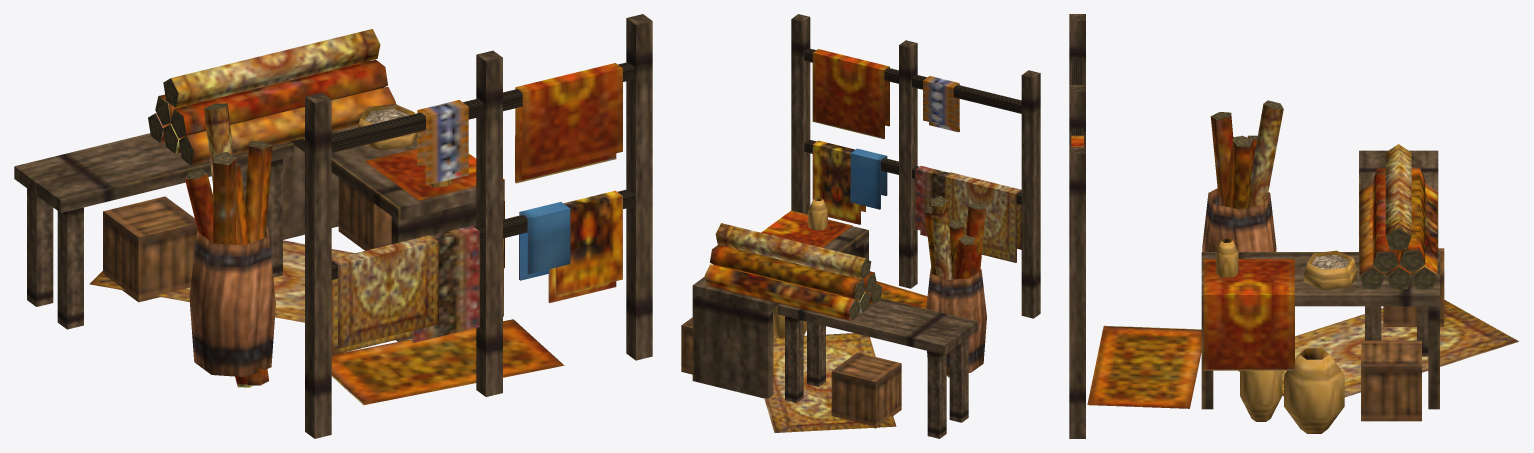
File: treasure_persian_metal_big.glb
3 views of the same model, side by side, from view 1: azimuth 30°, elevation 25°; view 2: azimuth 150°, elevation 25°; view 3: azimuth 270°, elevation 25° (orthographic). The views are drawn at different scales.
Visible parts, largest first — view 1: treasure_persian_metal_big_part0; view 2: treasure_persian_metal_big_part0; view 3: treasure_persian_metal_big_part0.
Boxes of the visible parts, x1=… form: treasure_persian_metal_big_part0: x1=14, y1=14, x2=652, y2=438; treasure_persian_metal_big_part0: x1=681, y1=14, x2=1040, y2=438; treasure_persian_metal_big_part0: x1=1069, y1=14, x2=1518, y2=438.
Bounding box in the file's own units: 3.6 × 2.94 × 3.93.
1 material, 1 textured.
